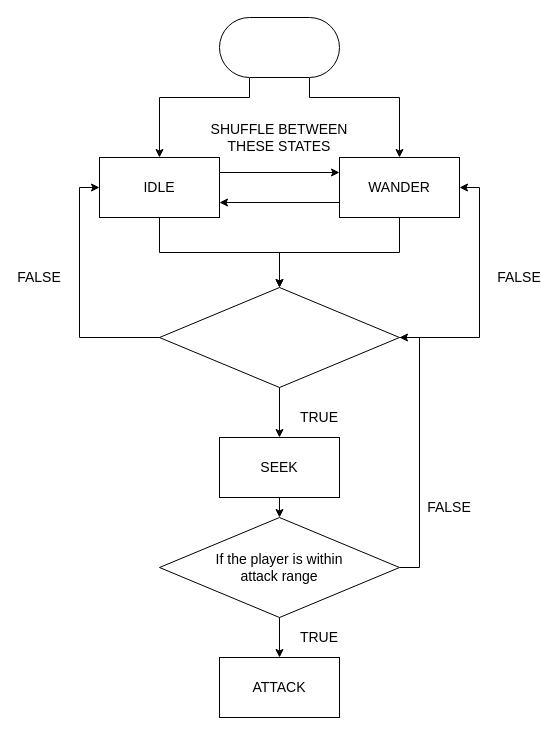
Some shapes in this 558 by 735 pixel diagram are drawn without their labels. Here are the shapes that lost their labels. From the top down, the box of each, then its label:
(218, 16, 340, 78): Aggressive NPC
(158, 286, 400, 388): If the player is detected
